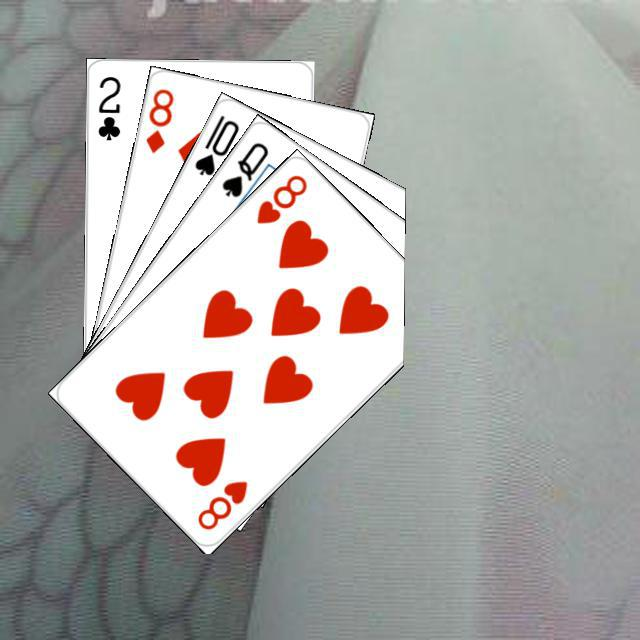10s: (189, 110, 241, 178)
2c: (93, 71, 122, 143)
8d: (140, 84, 176, 155)
8h: (192, 475, 249, 532), (251, 170, 309, 226)
Qs: (216, 137, 271, 200)
